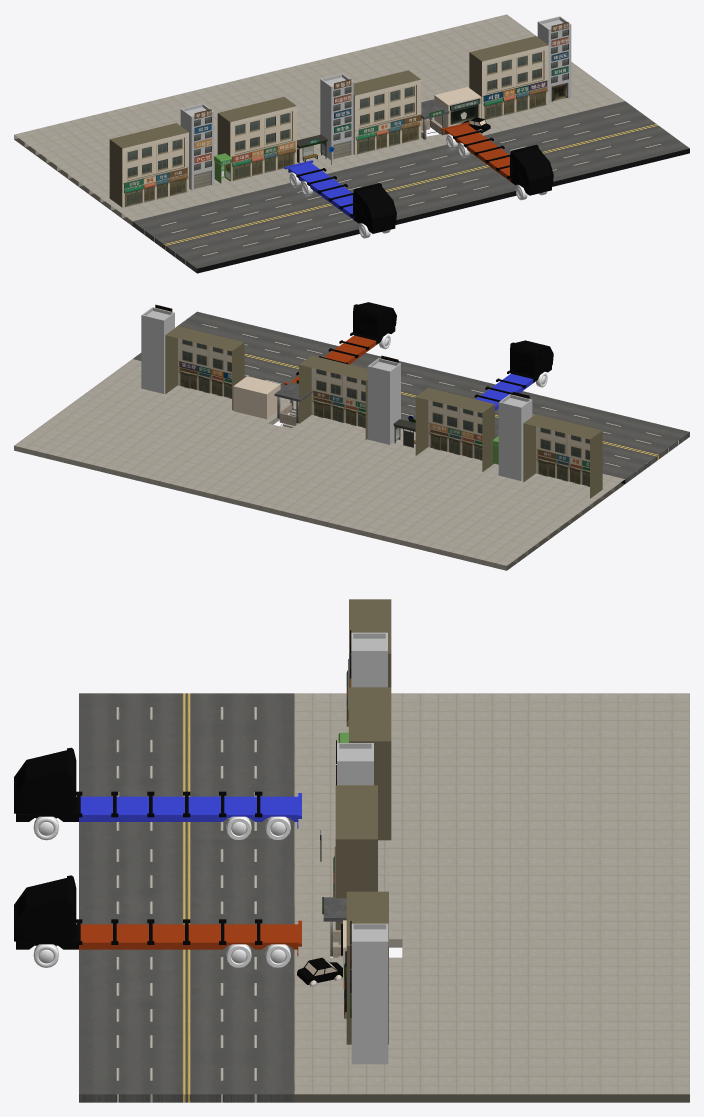
The model's file is City51.fbx.
The picture shows the model from 3 angles, top to bottom: view 1: azimuth 30°, elevation 25°; view 2: azimuth 150°, elevation 25°; view 3: azimuth 270°, elevation 25°; orthographic projection. The views are drawn at different scales.
Visible parts, largest first — view 1: FieldRoad, StreetRoad, ShopLineup003, ShopLineup002, ShopLineup001, ShopLineup, AD1, Truck(Nexus), Truck(Nexus)001, ShutterBuild, ShutterBuild001, OpenBuild (+4 smaller); view 2: StreetRoad, FieldRoad, ShopLineup003, ShopLineup001, ShopLineup002, ShopLineup, ShutterBuild, ShutterBuild001, OpenBuild, Truck(Nexus)001, Truck(Nexus), CarShop (+3 smaller); view 3: StreetRoad, FieldRoad, Truck(Nexus), Truck(Nexus)001, OpenBuild, ShopLineup, ShopLineup001, ShopLineup002, ShutterBuild001, ShopLineup003, ShutterBuild, Slot1 (+11 smaller).
Part boxes in pixels (bbox=[...]): FieldRoad: bbox=[132, 101, 689, 273]; StreetRoad: bbox=[14, 14, 624, 225]; ShopLineup003: bbox=[109, 123, 188, 207]; ShopLineup002: bbox=[469, 36, 548, 119]; ShopLineup001: bbox=[217, 97, 296, 181]; ShopLineup: bbox=[353, 70, 421, 154]; AD1: bbox=[143, 22, 568, 183]; Truck(Nexus): bbox=[289, 168, 396, 238]; Truck(Nexus)001: bbox=[446, 129, 553, 200]; ShutterBuild: bbox=[320, 73, 353, 159]; ShutterBuild001: bbox=[180, 103, 213, 190]; OpenBuild: bbox=[537, 16, 571, 102]; StreetRoad: bbox=[14, 359, 624, 570]; FieldRoad: bbox=[133, 311, 689, 483]; ShopLineup003: bbox=[523, 414, 602, 498]; ShopLineup001: bbox=[415, 388, 494, 471]; ShopLineup002: bbox=[165, 326, 244, 410]; ShopLineup: bbox=[299, 355, 367, 439]; ShutterBuild: bbox=[367, 358, 400, 444]; ShutterBuild001: bbox=[498, 394, 532, 480]; OpenBuild: bbox=[141, 307, 174, 393]; Truck(Nexus)001: bbox=[296, 302, 396, 375]; Truck(Nexus): bbox=[474, 340, 553, 401]; CarShop: bbox=[233, 376, 280, 419]; StreetRoad: bbox=[294, 693, 689, 1102]; FieldRoad: bbox=[79, 693, 294, 1102]; Truck(Nexus): bbox=[14, 747, 290, 840]; Truck(Nexus)001: bbox=[14, 875, 290, 967]; OpenBuild: bbox=[351, 923, 388, 1064]; ShopLineup: bbox=[333, 785, 377, 930]; ShopLineup001: bbox=[349, 687, 391, 840]; ShopLineup002: bbox=[344, 891, 388, 1044]; ShutterBuild001: bbox=[351, 632, 387, 687]; ShopLineup003: bbox=[346, 599, 391, 726]; ShutterBuild: bbox=[337, 743, 373, 785]; Slot1: bbox=[258, 793, 301, 828].
Bounding box in the file's own units: 2640 × 462 × 1880.
